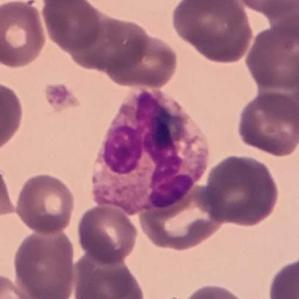Neutrophil: (83, 80, 216, 219)
Platelets: (44, 82, 78, 112)
RBC: (136, 178, 227, 252), (201, 152, 282, 228), (169, 0, 255, 64), (11, 223, 77, 299), (68, 15, 150, 74), (105, 32, 180, 90), (235, 91, 299, 158), (74, 202, 140, 266), (243, 18, 299, 93), (14, 171, 77, 235), (70, 248, 147, 299), (0, 0, 49, 69), (39, 0, 103, 52), (0, 79, 26, 154), (265, 253, 299, 299), (179, 281, 252, 299), (0, 161, 18, 220), (228, 0, 298, 15), (0, 271, 36, 299), (35, 0, 93, 8)
